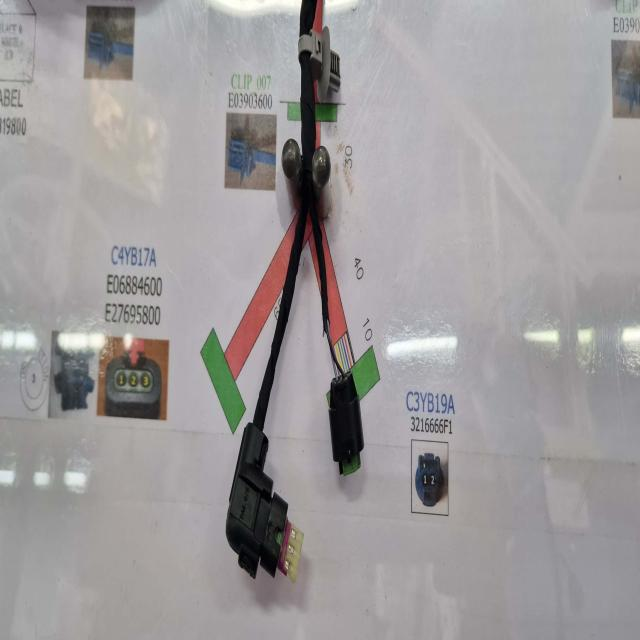Clip: (298, 27, 342, 103)
Connector: (224, 419, 303, 583), (328, 372, 364, 479)
Gape: (322, 316, 349, 381)
MHEV_N11_Cable: (254, 37, 331, 425), (309, 0, 328, 57)
